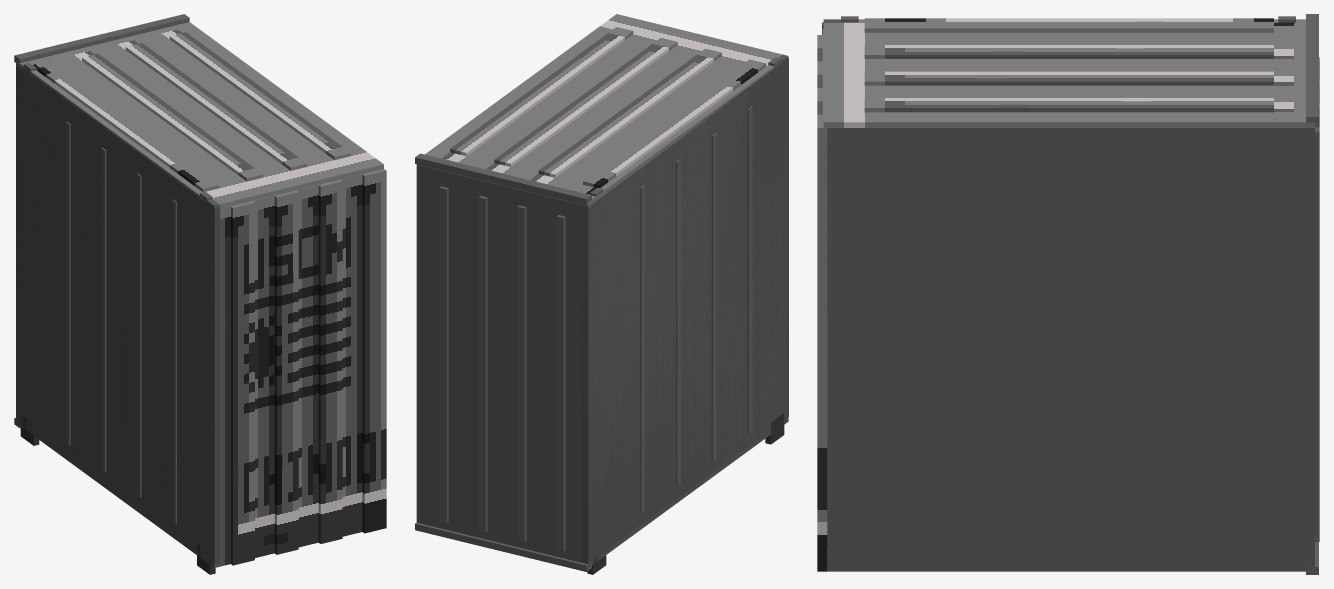
File: CMU3DFreightAU14ContainerUSCMLeft.glb
3 views of the same model, side by side, from view 1: azimuth 30°, elevation 25°; view 2: azimuth 150°, elevation 25°; view 3: azimuth 270°, elevation 25° (orthographic). The views are drawn at different scales.
Parts seen in each view (by area): view 1: closed cargo shell, source-painted corrugated roof, outer end wall, painted corrugation 8, painted corrugation 6, painted corrugation 4, painted corrugation 2, painted corrugation 7, painted corrugation 5, painted corrugation 3, end wall rib (×4), painted corrugation 1 (+6 smaller); view 2: closed cargo shell, outer end wall, source-painted corrugated roof, rear wall corrugation (×4), end wall rib (×4), rear horizontal frame (×2), source-painted roof ridge 2, source-painted roof ridge 3, source-painted roof ridge 1, source-painted roof ridge 4; view 3: closed cargo shell, source-painted corrugated roof, source-painted roof ridge 1, source-painted roof ridge 3, source-painted roof ridge 4, source-painted roof ridge 2, painted corrugation 8, rear wall corrugation, rear horizontal frame.
Boxes of the visible parts, x1=… form: closed cargo shell: x1=16, y1=66, x2=212, y2=565; source-painted corrugated roof: x1=16, y1=22, x2=383, y2=209; outer end wall: x1=16, y1=64, x2=220, y2=563; painted corrugation 8: x1=362, y1=169, x2=386, y2=533; painted corrugation 6: x1=318, y1=179, x2=342, y2=543; painted corrugation 4: x1=274, y1=190, x2=298, y2=554; painted corrugation 2: x1=231, y1=201, x2=254, y2=565; painted corrugation 7: x1=340, y1=174, x2=362, y2=536; painted corrugation 5: x1=296, y1=185, x2=318, y2=547; painted corrugation 3: x1=253, y1=195, x2=274, y2=557; end wall rib (×4): x1=66, y1=121, x2=176, y2=523; painted corrugation 1: x1=212, y1=206, x2=230, y2=567; closed cargo shell: x1=416, y1=78, x2=786, y2=567; outer end wall: x1=582, y1=57, x2=788, y2=563; source-painted corrugated roof: x1=416, y1=14, x2=788, y2=206; rear wall corrugation (×4): x1=439, y1=186, x2=565, y2=551; end wall rib (×4): x1=640, y1=106, x2=752, y2=512; rear horizontal frame (×2): x1=415, y1=153, x2=591, y2=571; source-painted roof ridge 2: x1=538, y1=48, x2=721, y2=177; source-painted roof ridge 3: x1=494, y1=38, x2=677, y2=166; source-painted roof ridge 1: x1=583, y1=59, x2=766, y2=187; source-painted roof ridge 4: x1=450, y1=27, x2=633, y2=156; closed cargo shell: x1=827, y1=128, x2=1314, y2=571; source-painted corrugated roof: x1=823, y1=19, x2=1314, y2=127; source-painted roof ridge 1: x1=864, y1=18, x2=1273, y2=32; source-painted roof ridge 3: x1=864, y1=71, x2=1273, y2=85; source-painted roof ridge 4: x1=864, y1=98, x2=1273, y2=112; source-painted roof ridge 2: x1=864, y1=45, x2=1273, y2=58; painted corrugation 8: x1=817, y1=114, x2=827, y2=571; rear wall corrugation: x1=1315, y1=127, x2=1319, y2=541; rear horizontal frame: x1=1306, y1=14, x2=1318, y2=124.
Bounding box in the file's own units: 0.9768 × 2.05 × 2.
Materials: 15 (11 with a texture image).
